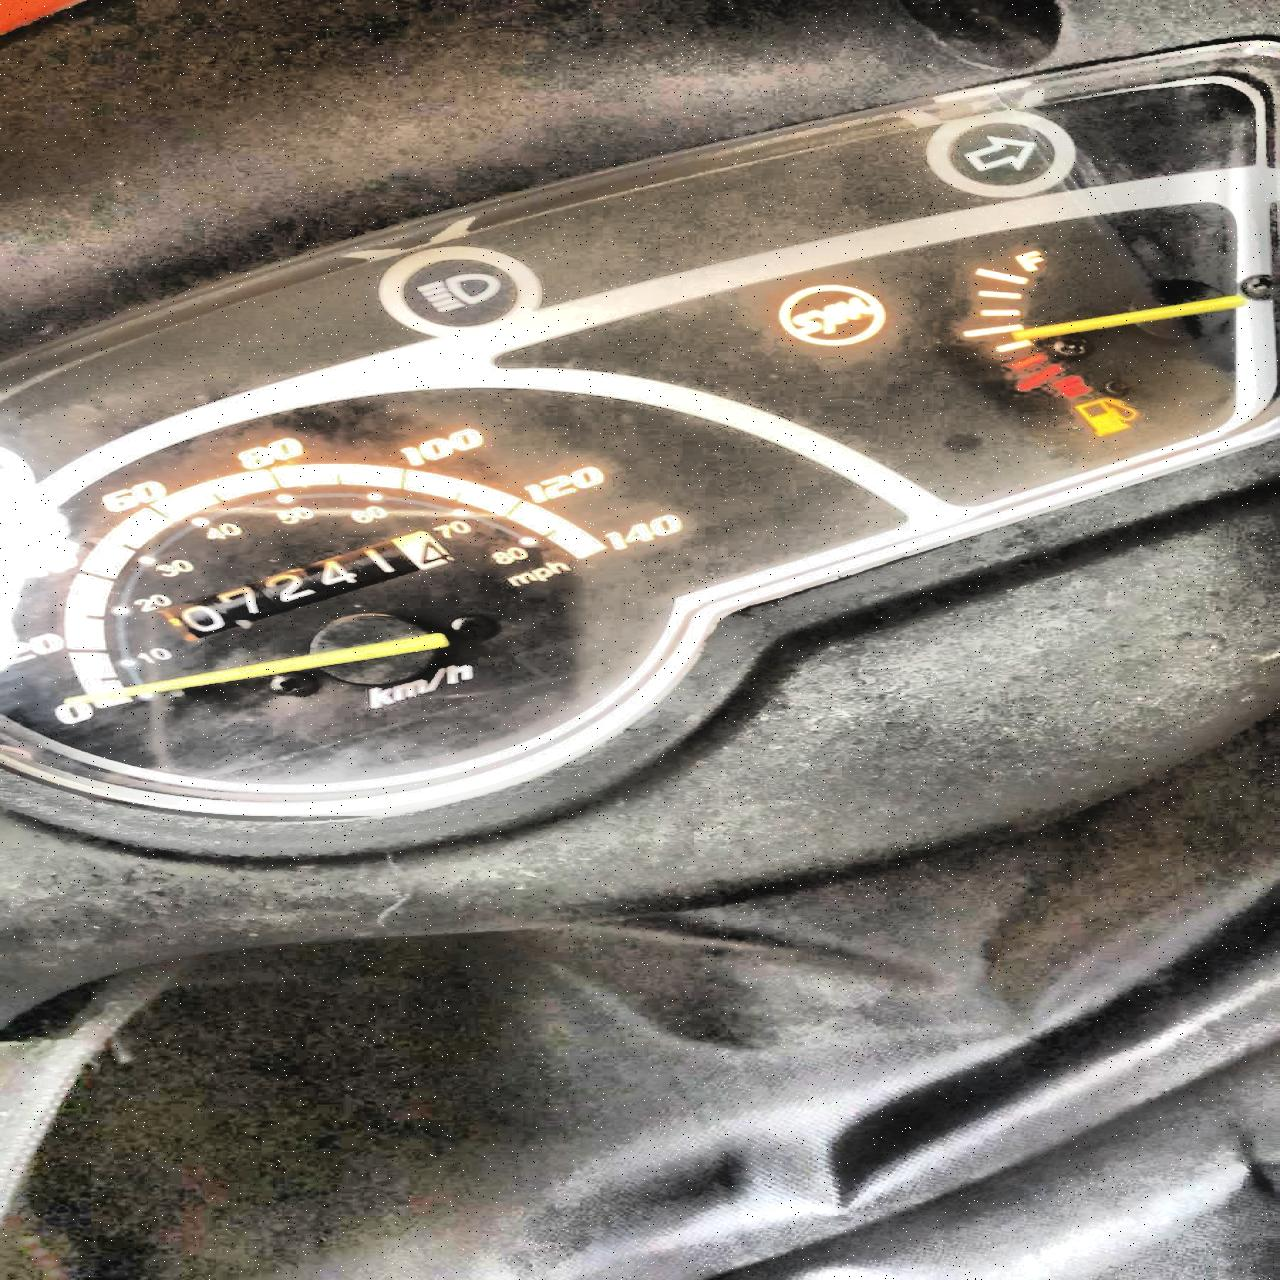0: (173, 604, 226, 632), (173, 558, 197, 572), (219, 520, 243, 535), (152, 592, 171, 606)
1: (360, 545, 397, 576)
2: (261, 573, 318, 602)
3: (155, 564, 175, 577)
4: (309, 556, 360, 585), (408, 540, 454, 563), (203, 526, 225, 539)
7: (213, 585, 266, 614), (430, 524, 452, 538)
odometer: (157, 526, 459, 641)
